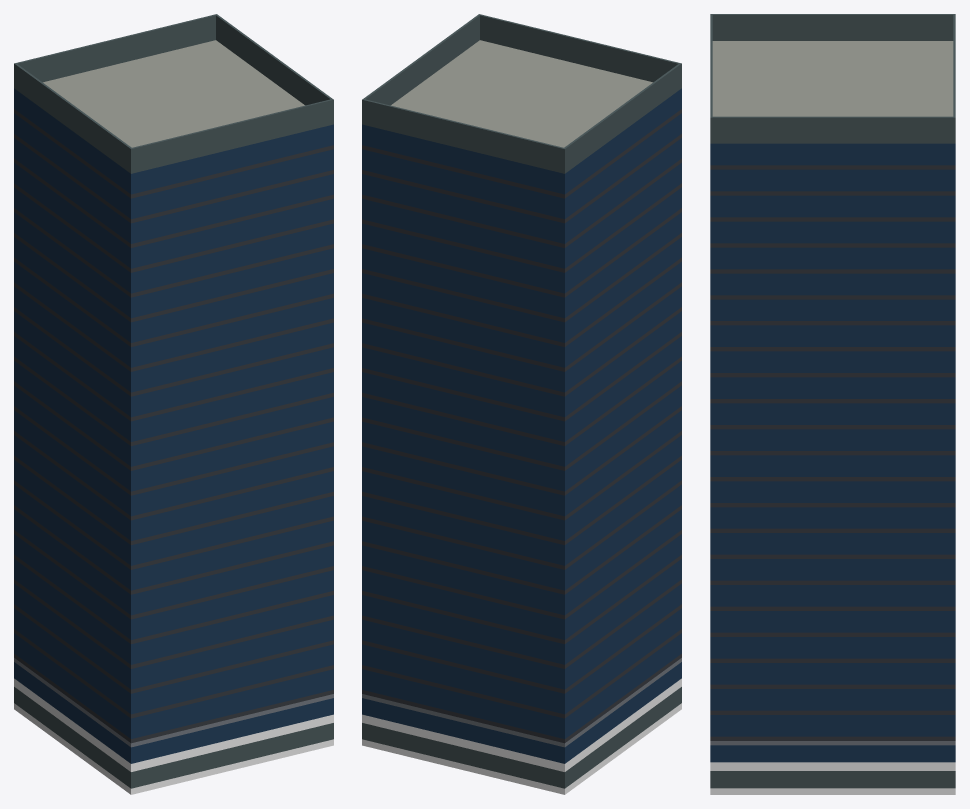
The model's file is far.fbx.
3 views of the same model, side by side, from view 1: azimuth 30°, elevation 25°; view 2: azimuth 150°, elevation 25°; view 3: azimuth 270°, elevation 25° (orthographic). The views are drawn at different scales.
Visible parts, largest first — view 1: a2012/200/far; view 2: a2012/200/far; view 3: a2012/200/far.
Part boxes in pixels (<box>): a2012/200/far: <box>14,14,333,794</box>; a2012/200/far: <box>362,14,681,794</box>; a2012/200/far: <box>710,14,955,794</box>.
Bounding box in the file's own units: 30 × 91.3 × 30.
